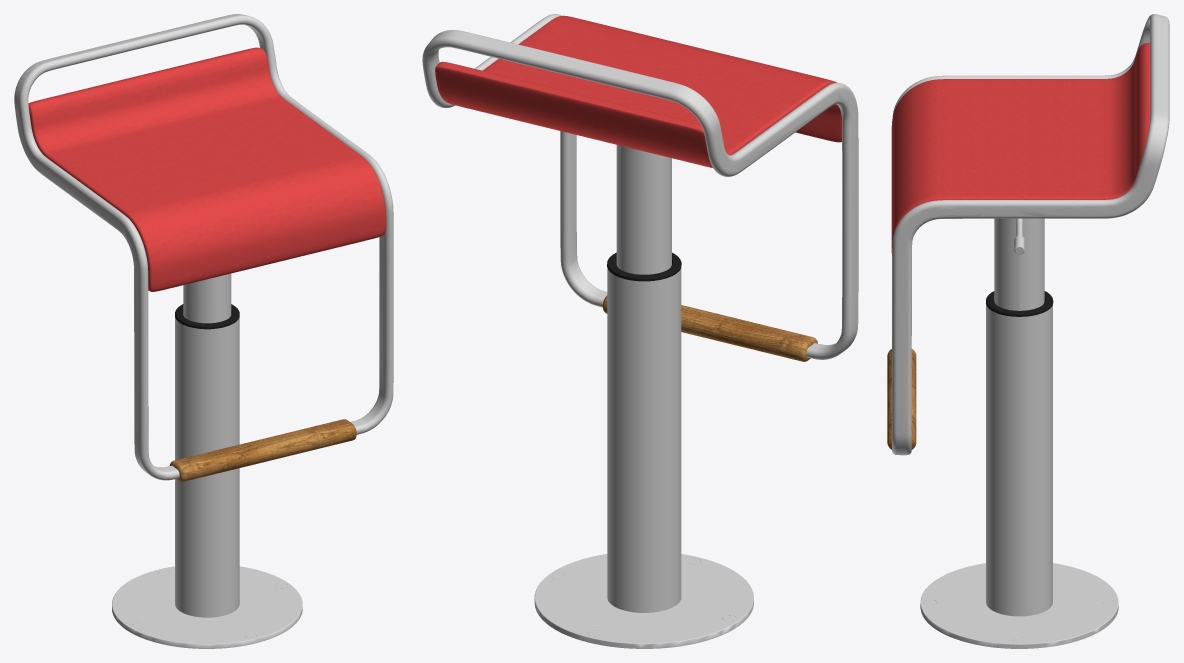
Rendered from c113-clun-289.glb.
3 views of the same model, side by side, from view 1: azimuth 30°, elevation 25°; view 2: azimuth 150°, elevation 25°; view 3: azimuth 270°, elevation 25° (orthographic). The views are drawn at different scales.
Visible parts, largest first — view 1: c113-seduta-tessuto, c113-base-piastra, c113-poggiapiedi-legno, c113-ammortizzatore-distanziale; view 2: c113-base-piastra, c113-seduta-tessuto, c113-poggiapiedi-legno, c113-ammortizzatore-distanziale; view 3: c113-base-piastra, c113-seduta-tessuto, c113-poggiapiedi-legno, c113-ammortizzatore-distanziale.
Part boxes in pixels (x1,y1,x2,y2): c113-seduta-tessuto: (28, 47, 386, 291); c113-base-piastra: (14, 14, 393, 648); c113-poggiapiedi-legno: (169, 419, 356, 481); c113-ammortizzatore-distanziale: (175, 304, 239, 329); c113-base-piastra: (422, 14, 858, 648); c113-seduta-tessuto: (435, 15, 841, 167); c113-poggiapiedi-legno: (602, 295, 817, 361); c113-ammortizzatore-distanziale: (607, 252, 681, 281); c113-base-piastra: (892, 14, 1169, 648); c113-seduta-tessuto: (891, 43, 1150, 255); c113-poggiapiedi-legno: (887, 349, 916, 449); c113-ammortizzatore-distanziale: (986, 291, 1053, 316).
Bounding box in the file's own units: 0.4852 × 0.9046 × 0.4268.
4 materials, 2 textured.
